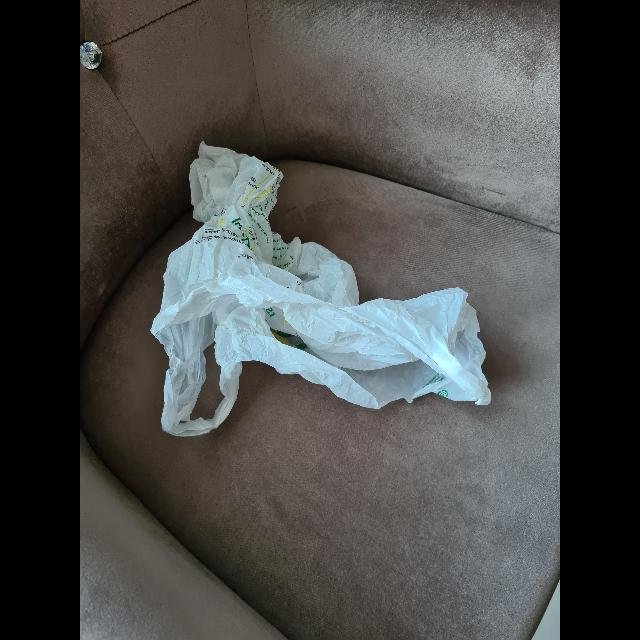plastic_bag: (135, 128, 507, 442)
